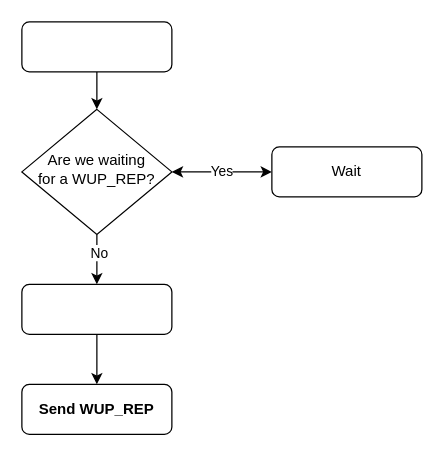
Some shapes in this 444 by 456 pixel diagram are drawn without their labels. The box of each missing label's shape, as (x1, y1, x2, y2) in pixels:
Get all Requests received in interval: (21, 283, 172, 334)
Receive WUP_INI: (21, 21, 172, 72)
